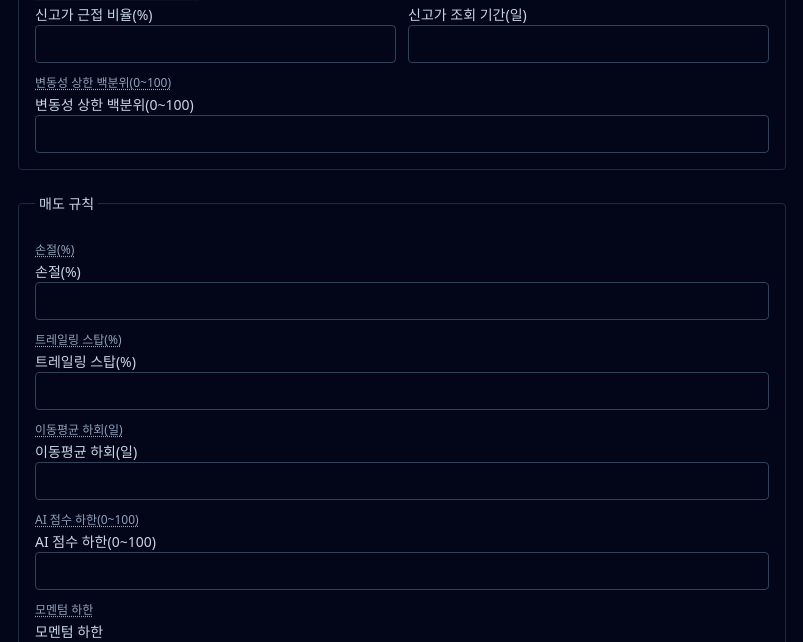
Test: StrategyEditPage › fills in sell_rules fields including the trailing stop and saves them
(page scrolled)
Type "8" into the field labelled "손절(%)". click: (402, 300)
box: [35, 282, 769, 320]
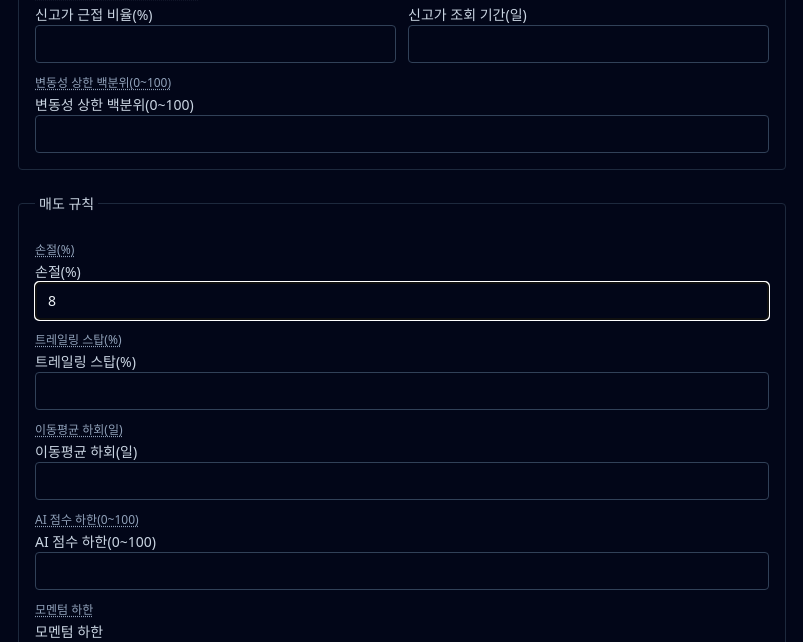
Type "12" into the field labelled "트레일링 스탑(%)". click: (402, 390)
box: [35, 372, 769, 410]
(page scrolled)
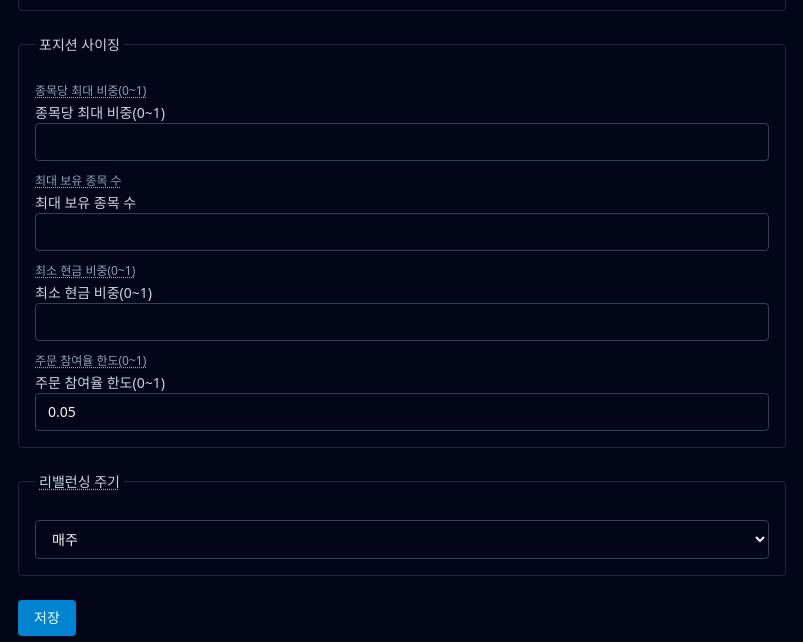
Click the button "저장". click: (47, 618)
box: [18, 600, 76, 636]
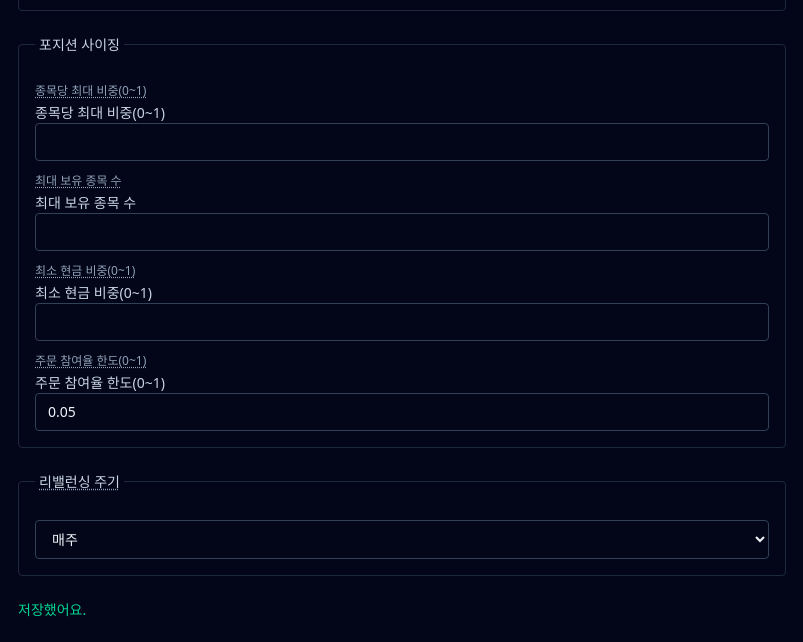
Expected: the text "저장했어요." is shown, [18, 600, 86, 618]
